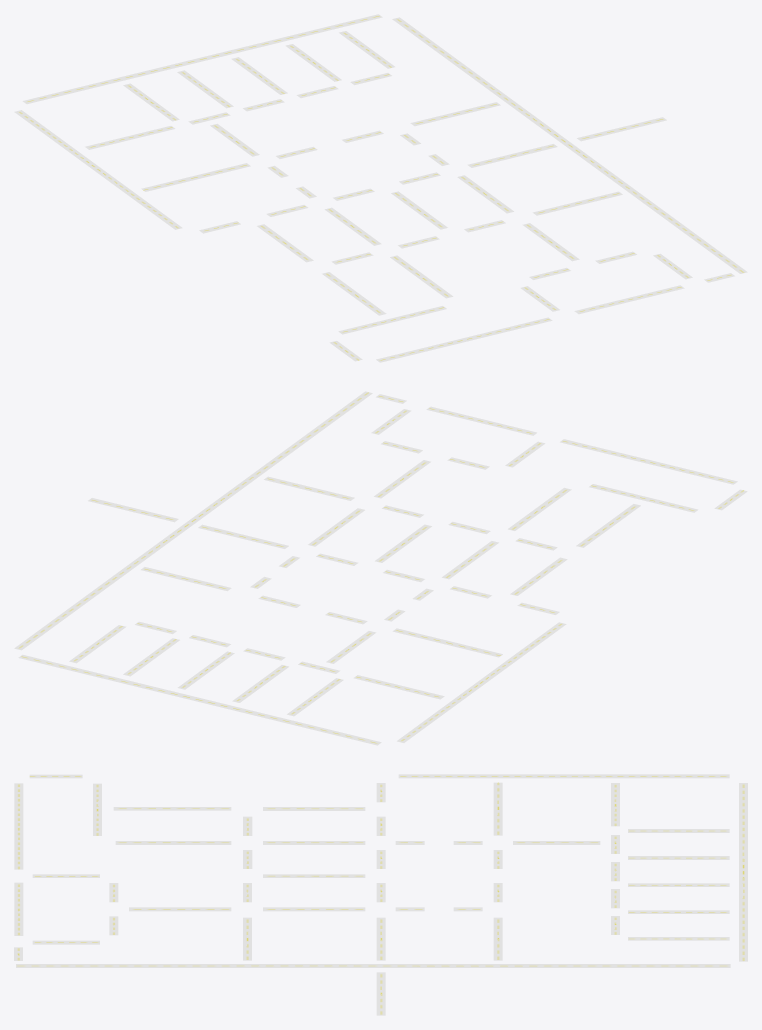
The model's file is xian.fbx.
3 renders of one model, top to bottom at view 1: azimuth 30°, elevation 25°; view 2: azimuth 150°, elevation 25°; view 3: azimuth 270°, elevation 25°, orthographic. The views are drawn at different scales.
Visible parts, largest first — view 1: xian; view 2: xian; view 3: xian.
Part boxes in pixels (x1,y1,x2,y2): xian: (14,14,747,362); xian: (14,391,747,745); xian: (14,774,747,1015).
Bounding box in the file's own units: 9747 × 0.000517 × 12545.
